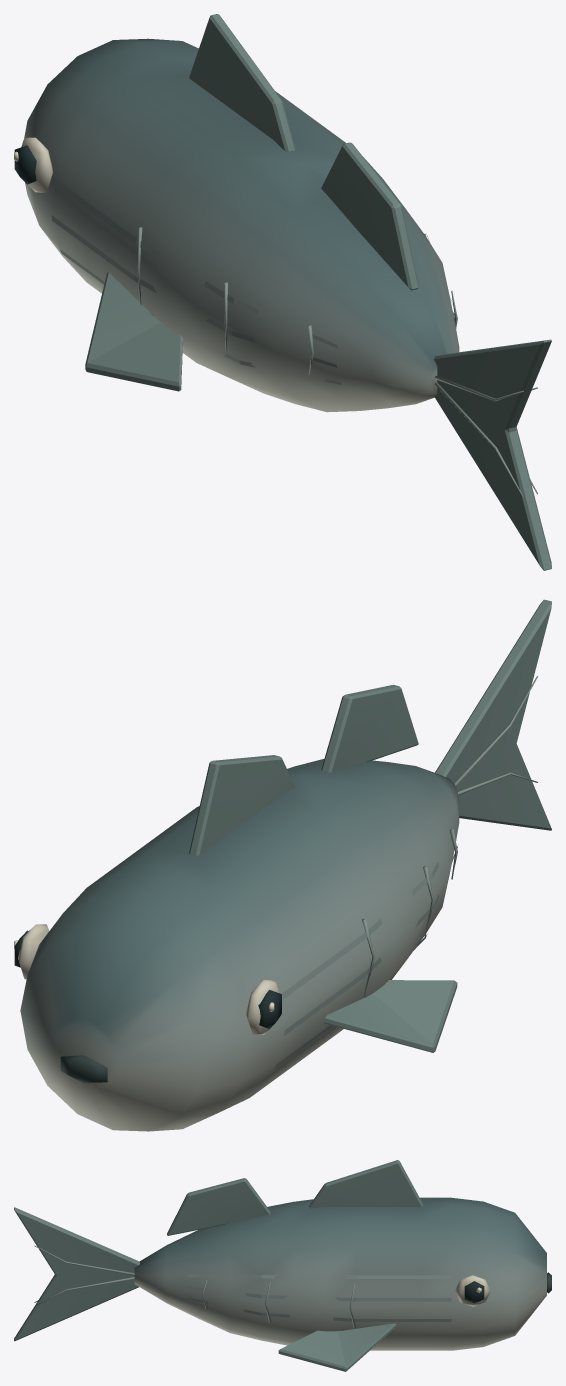
File: fish_mullet.glb
3 renders of one model, top to bottom at view 1: azimuth 30°, elevation 25°; view 2: azimuth 150°, elevation 25°; view 3: azimuth 270°, elevation 25°, orthographic. The views are drawn at different scales.
Bounding box in the file's own units: 0.1722 × 0.1498 × 0.3995.
